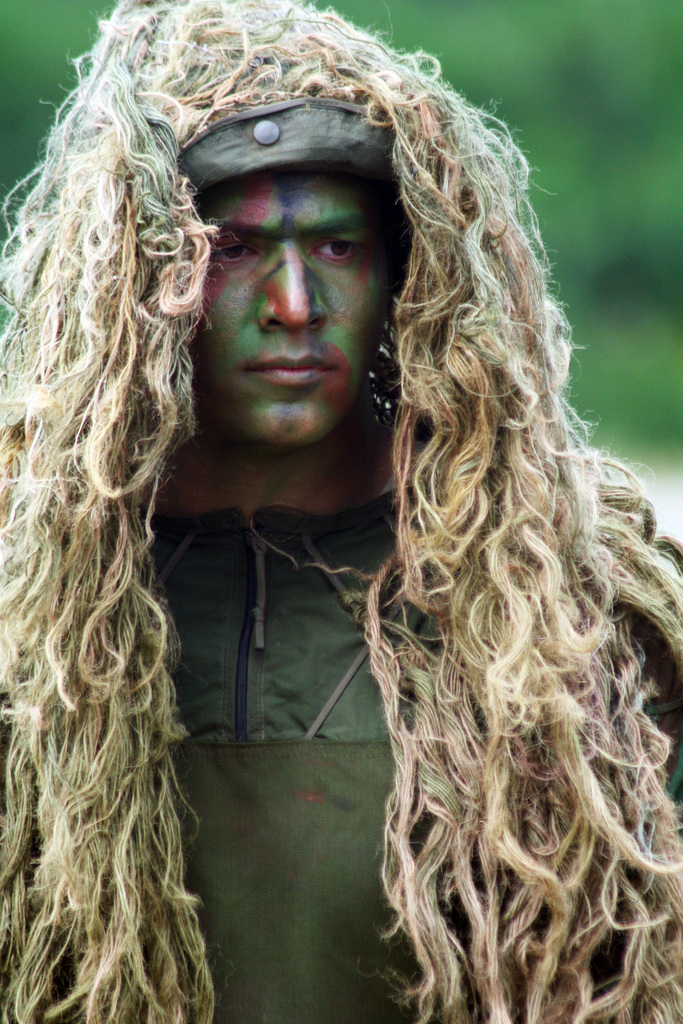face: (198, 101, 379, 450)
